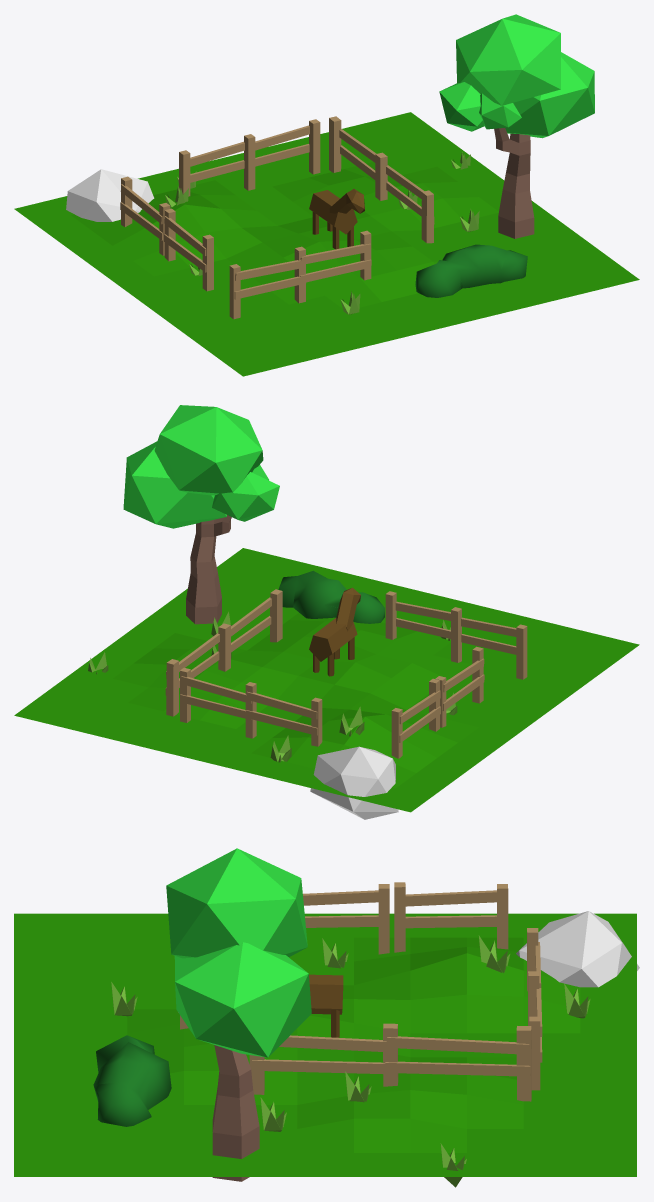
The model's file is kon.fbx.
The picture shows the model from 3 angles, top to bottom: view 1: azimuth 30°, elevation 25°; view 2: azimuth 150°, elevation 25°; view 3: azimuth 270°, elevation 25°; orthographic projection. The views are drawn at different scales.
Parts seen in each view (by area): view 1: Grid.003; view 2: Grid.003; view 3: Grid.003.
Part boxes in pixels (bbox=[...]): Grid.003: bbox=[14, 14, 639, 376]; Grid.003: bbox=[14, 405, 639, 819]; Grid.003: bbox=[14, 848, 639, 1187].
Size of the model in its own units: 1089 by 621 by 1005.
